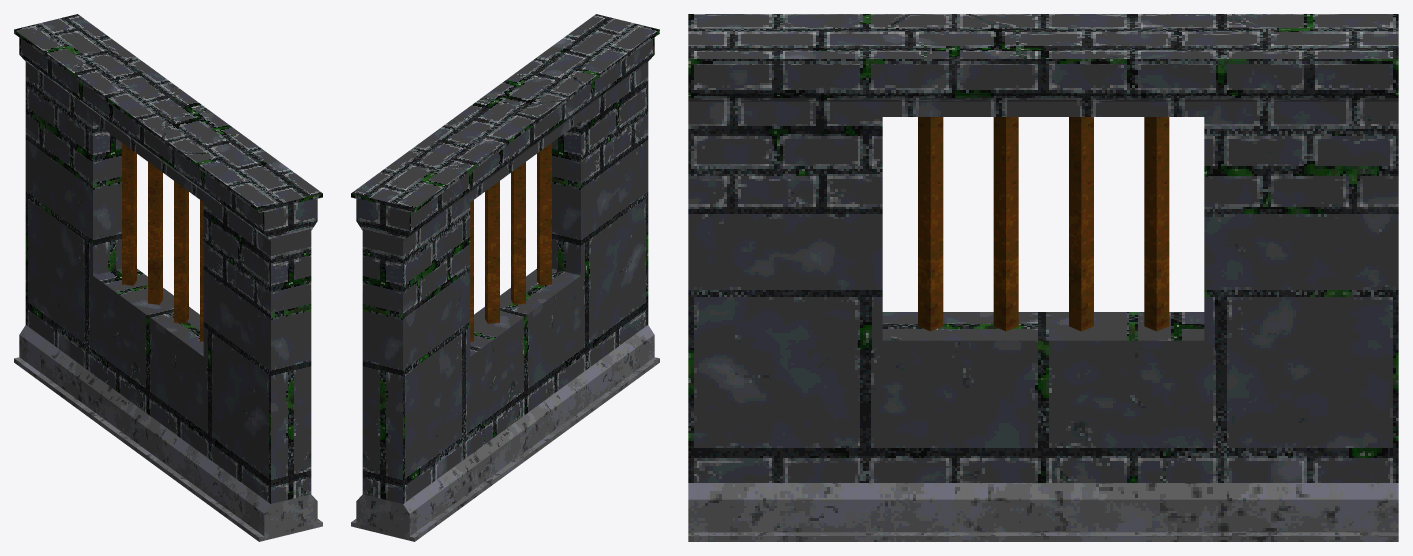
The model's file is wall_w_bars_03.gltf.
3 renders of one model, left to right at view 1: azimuth 30°, elevation 25°; view 2: azimuth 150°, elevation 25°; view 3: azimuth 270°, elevation 25°, orthographic. The views are drawn at different scales.
Parts seen in each view (by area): view 1: wall_w_bars_03; view 2: wall_w_bars_03; view 3: wall_w_bars_03.
Part boxes in pixels (<box>): wall_w_bars_03: <box>14,14,322,541</box>; wall_w_bars_03: <box>351,14,659,541</box>; wall_w_bars_03: <box>688,14,1398,541</box>.
Size of the model in its own units: 0.6 by 3 by 4.
1 material, 1 textured.
